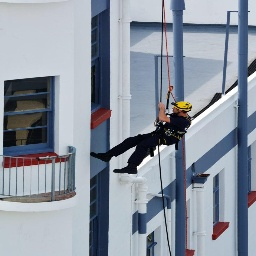helmet: (171, 99, 193, 115)
person: (92, 98, 194, 176)
